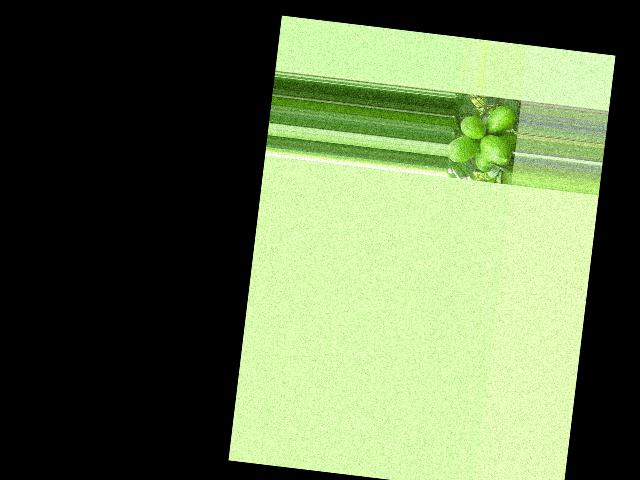lemon: (483, 102, 516, 138)
